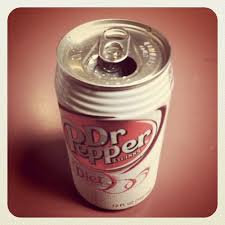can: (53, 14, 163, 214)
